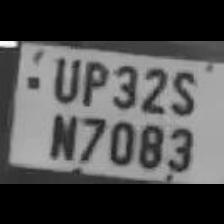0: (105, 114, 135, 166)
2: (137, 62, 167, 112)
3: (163, 120, 195, 172), (106, 57, 138, 107)
7: (74, 110, 104, 162)
8: (135, 118, 163, 168)
N: (44, 107, 78, 159)
P: (77, 54, 109, 106)
S: (165, 60, 195, 114)
U: (46, 50, 80, 104)
